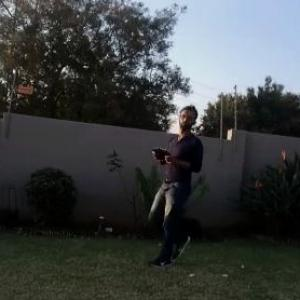follow: (142, 99, 208, 272)
